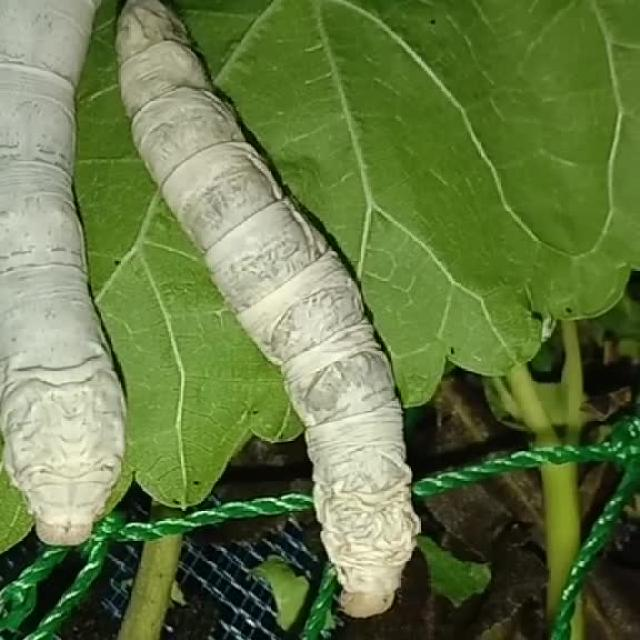Grasserie: (109, 15, 489, 618)
